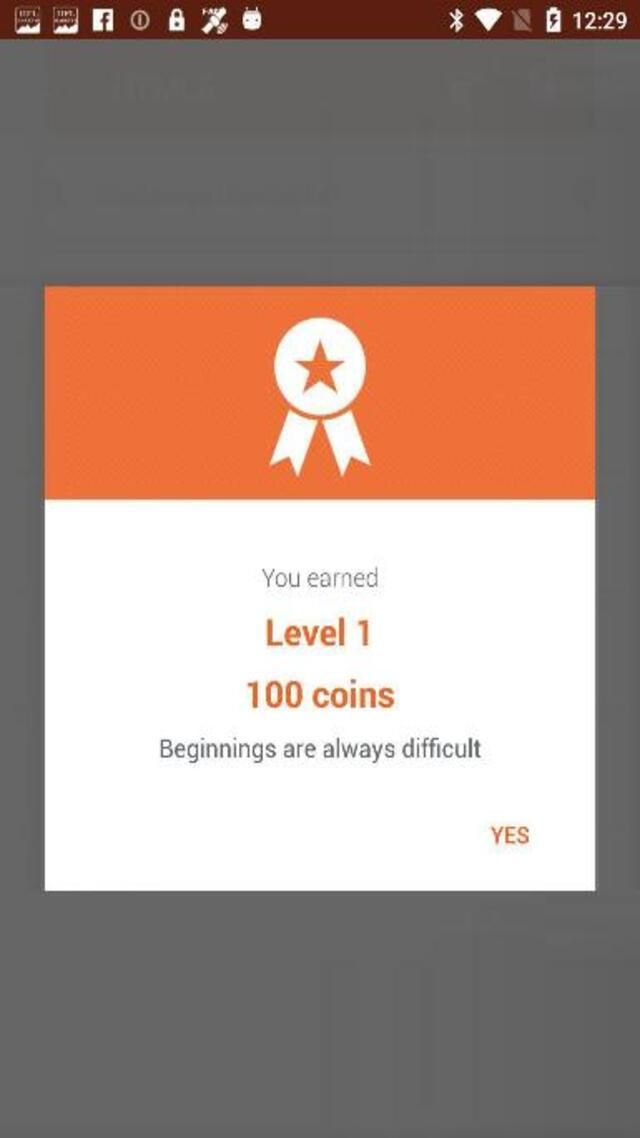Image: (40, 287, 598, 499)
Text: (162, 738, 480, 763), (248, 680, 394, 708), (267, 617, 368, 645), (262, 566, 376, 586), (492, 826, 530, 842)
